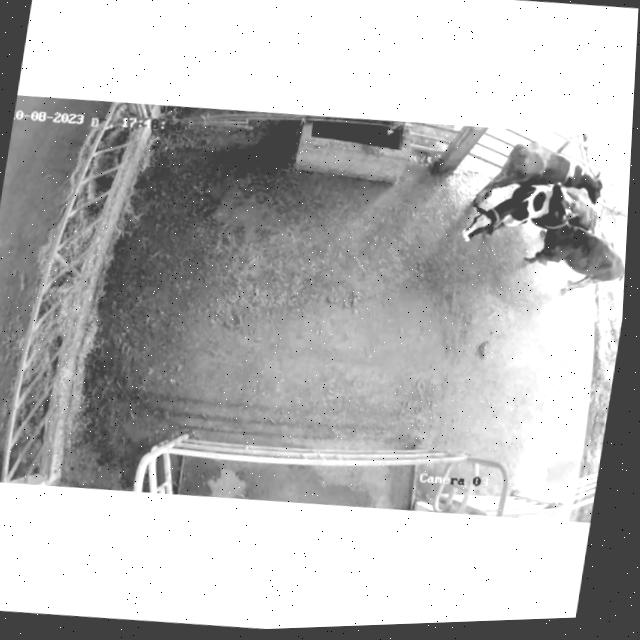propping: (527, 177, 592, 250)
